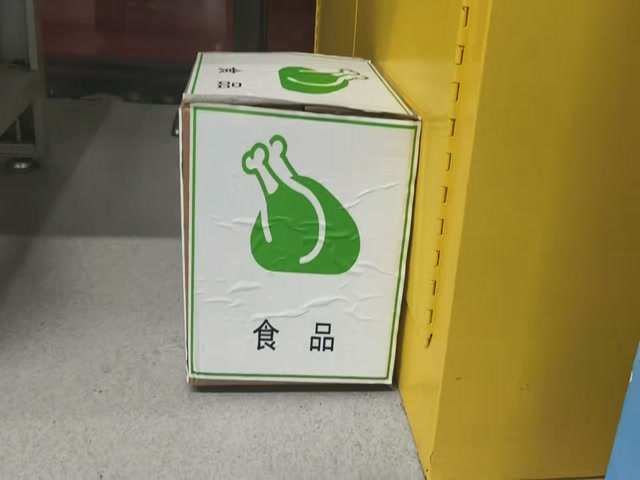Cube_food: (181, 53, 413, 114)
